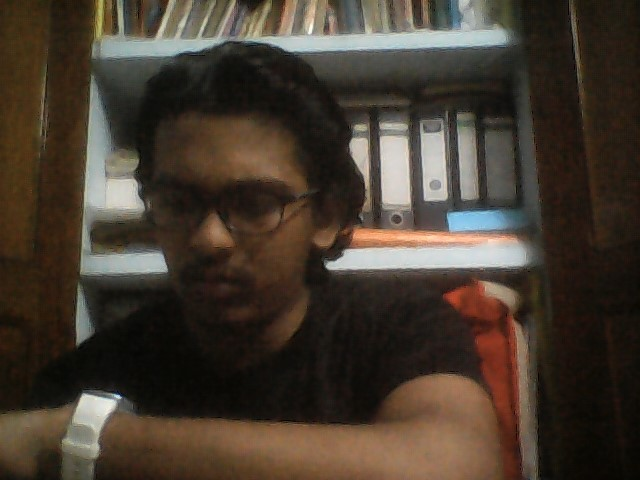person: (41, 40, 479, 480)
smartwatch: (55, 387, 143, 478)
